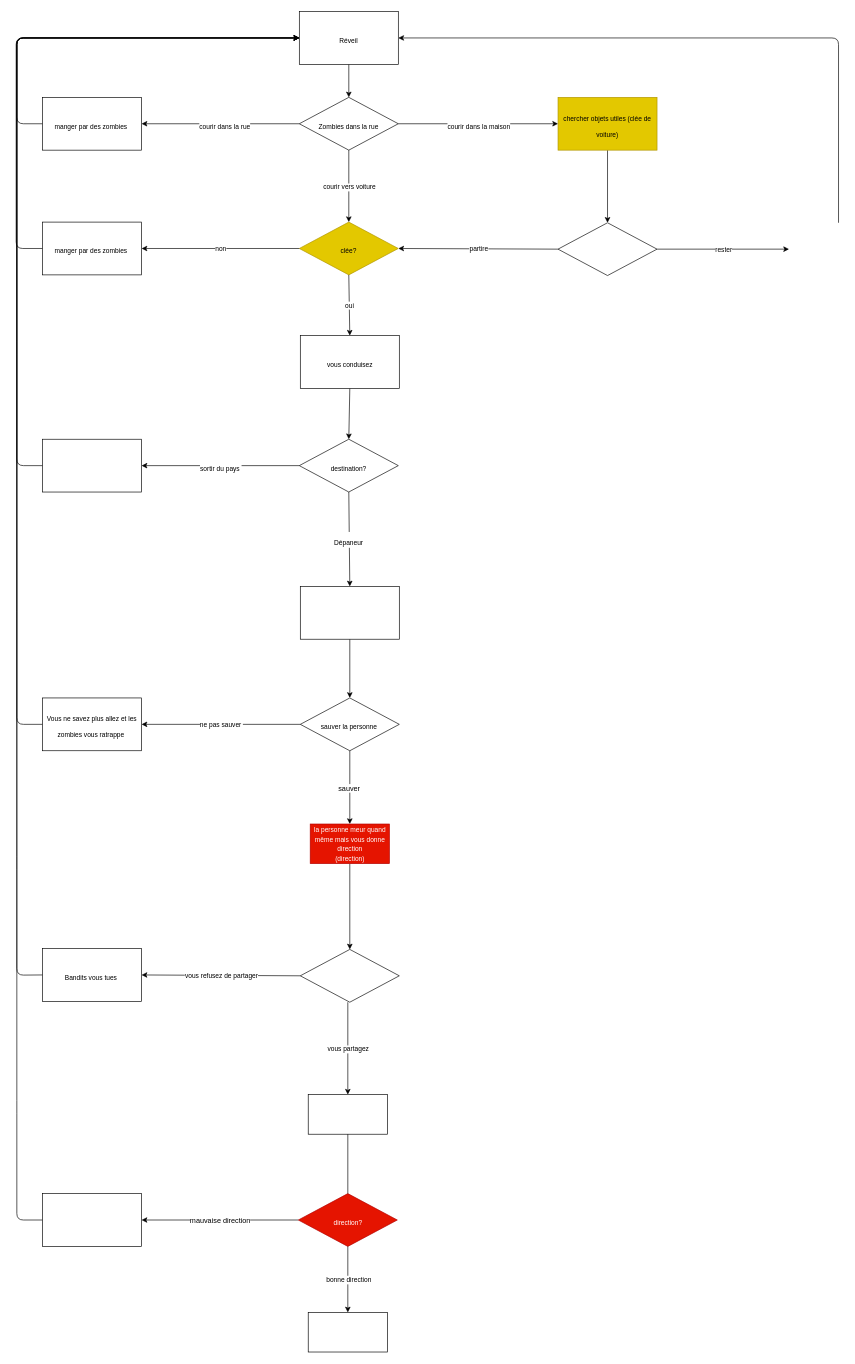
Some shapes in this 855 by 1364 pixel diagram are drawn without their labels. The box of each missing label's shape, as (x1, y1, x2, y2) in pixels:
bandits: (300, 949, 399, 1002)
Pas asser de gaz , manger par des zombies: (42, 439, 142, 492)
plein d'essence: (300, 586, 399, 639)
rester ou partire: (557, 222, 657, 276)
Vous arrivez a la ville: (308, 1094, 387, 1134)
vous ête en sécurité dans refuge FIN: (308, 1312, 387, 1352)
zombies vous entoure et vous mange: (42, 1193, 142, 1246)
